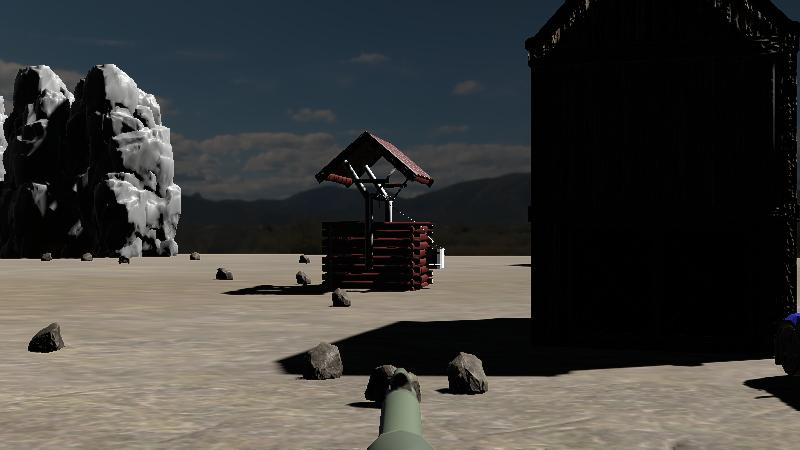House: (523, 3, 800, 361)
car: (770, 280, 800, 408)
